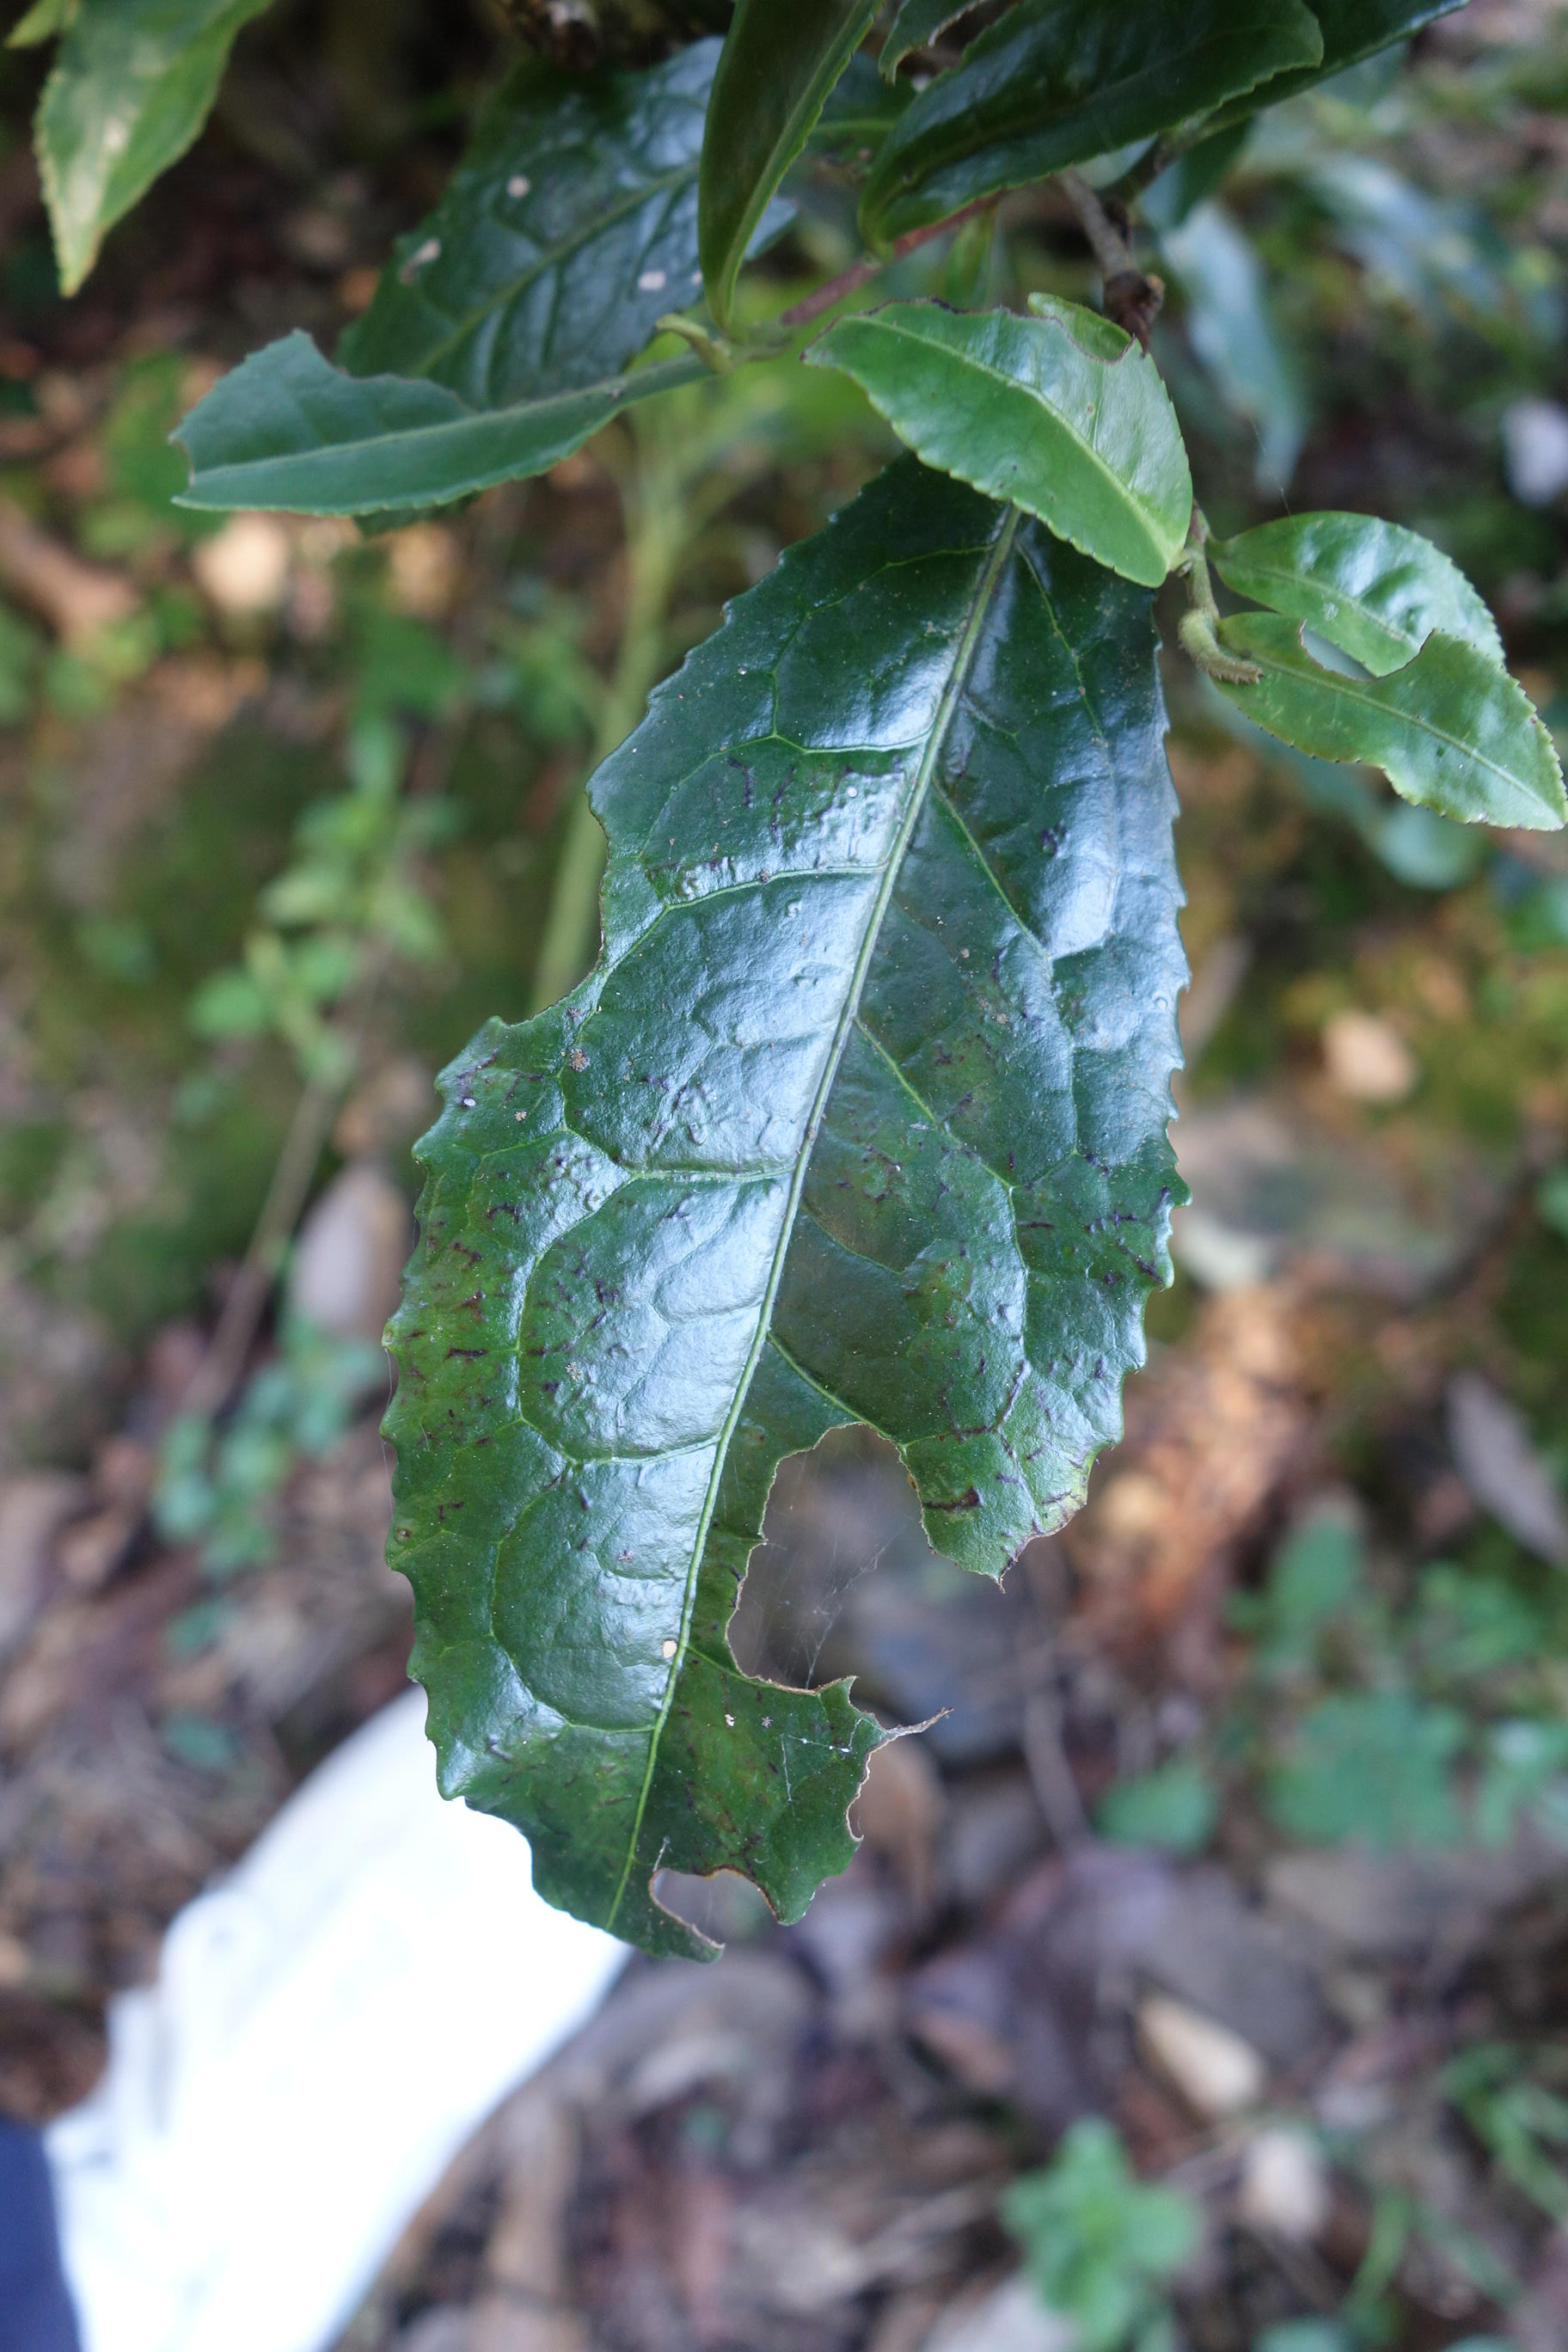chihuo_high: (374, 451, 1200, 1963), (171, 325, 700, 518)
chihuo_low: (805, 294, 1193, 591), (1214, 605, 1568, 836)
